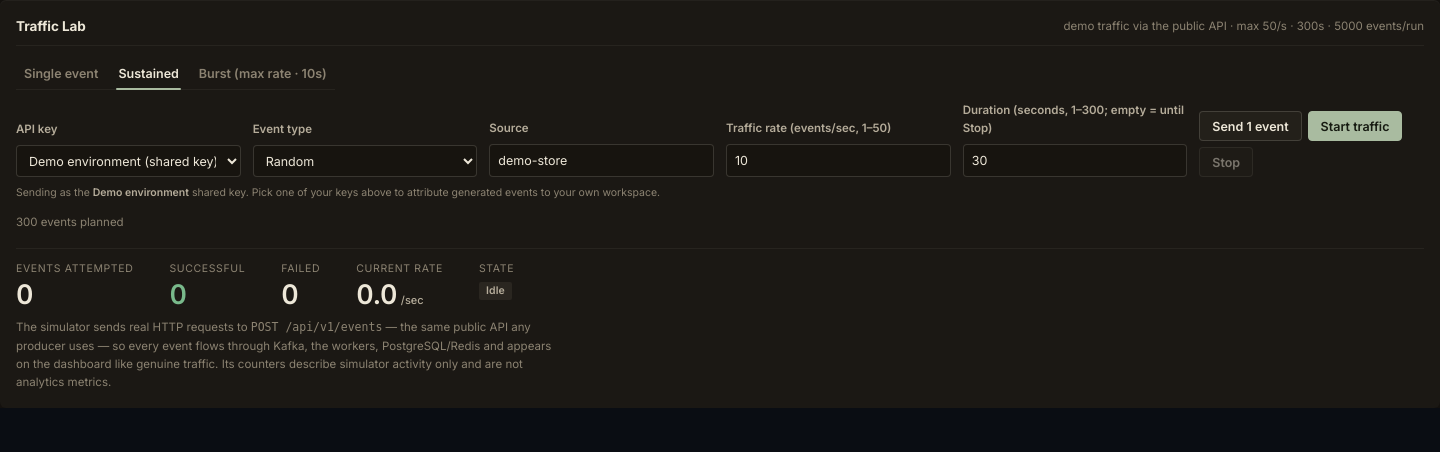
Test: EventSimulator UI › failed requests increment the Failed counter honestly
Expected: the dropdown labelled "API key" is shown, [16,145,241,177]
Click the button "Send 1 event" at (1250, 126), box [1199,111,1302,141]
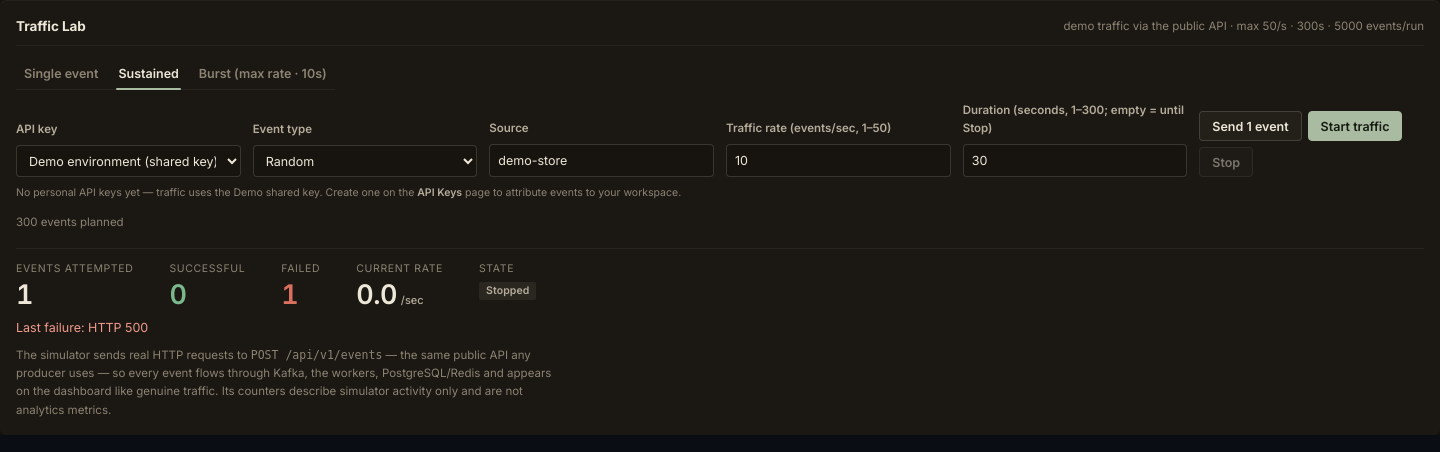
Expected: the text "1" below "Failed" is shown, [281,278,298,311]
Expected: the text "Last failure: HTTP 500" is shown, [16,320,148,335]
